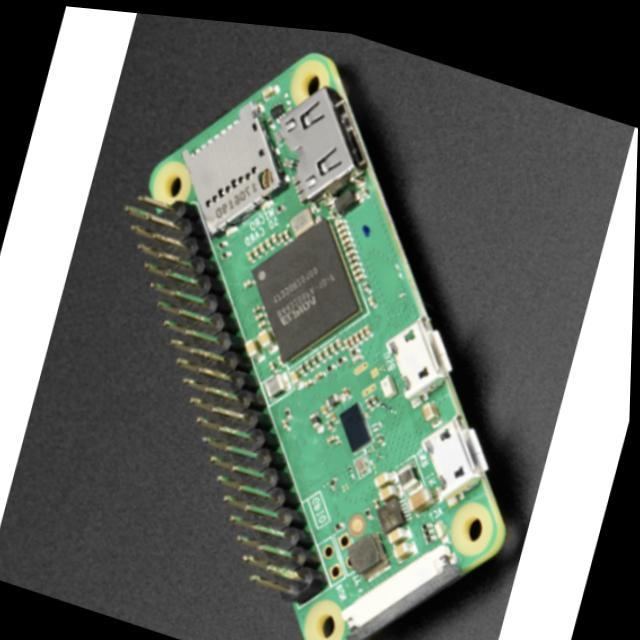Raspberry-Pi-Zero-WH: (126, 54, 506, 640)
